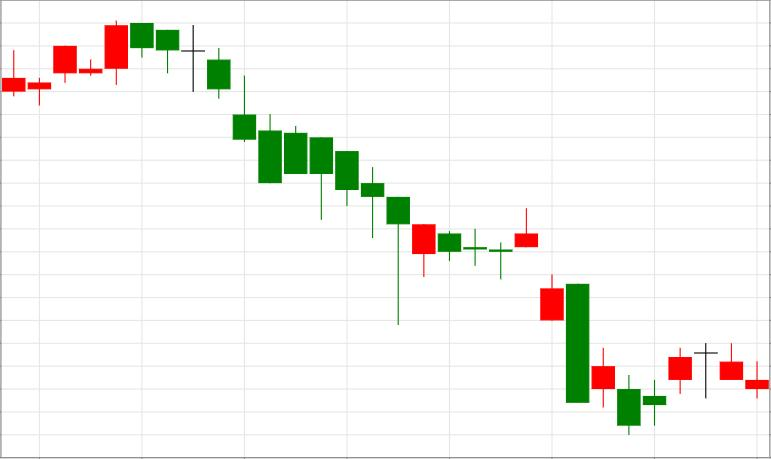hammer_rise: (207, 48, 410, 325)
